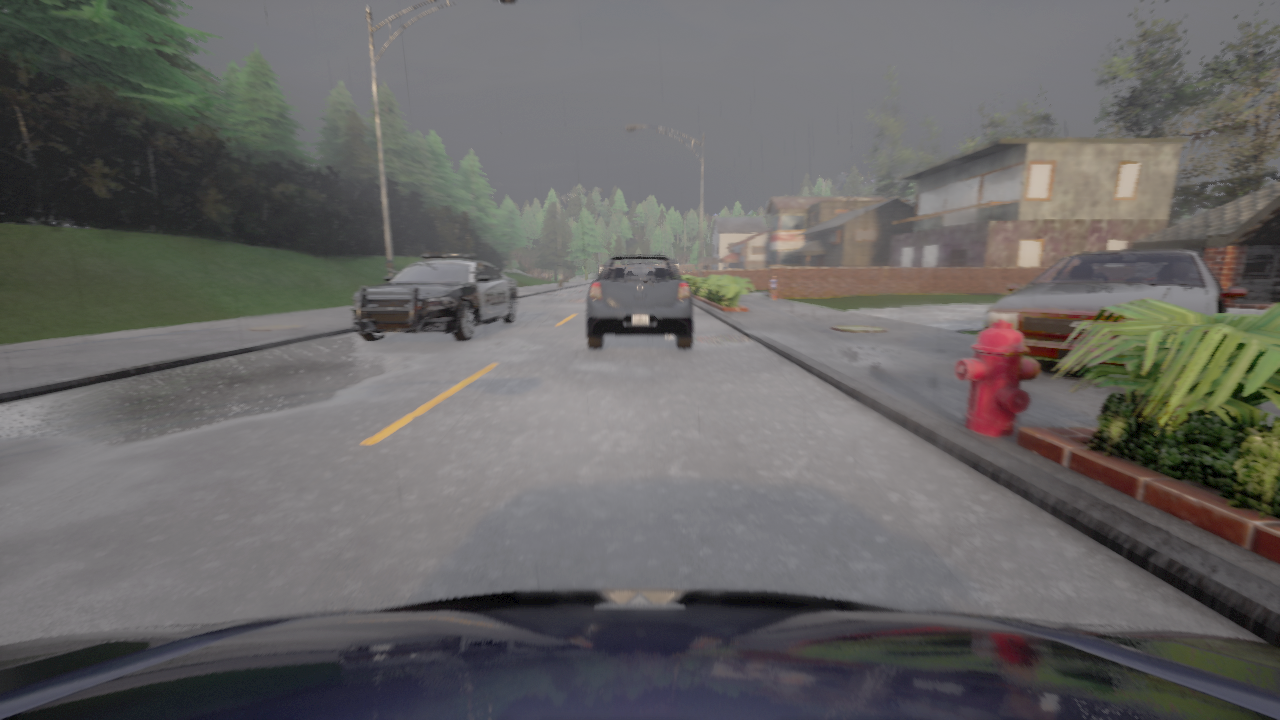cyclist: (0, 588, 1279, 719), (976, 250, 1248, 366), (351, 252, 517, 341), (586, 256, 693, 349)
pedestrian: (770, 274, 777, 300)
